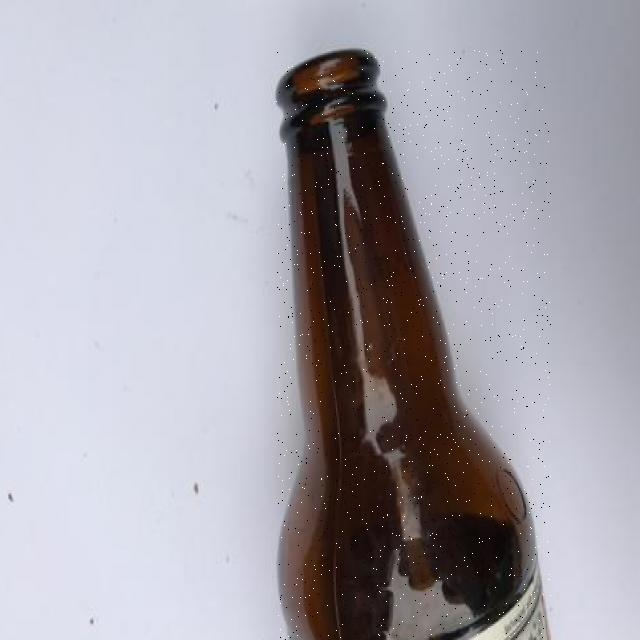glass: (276, 50, 551, 640)
